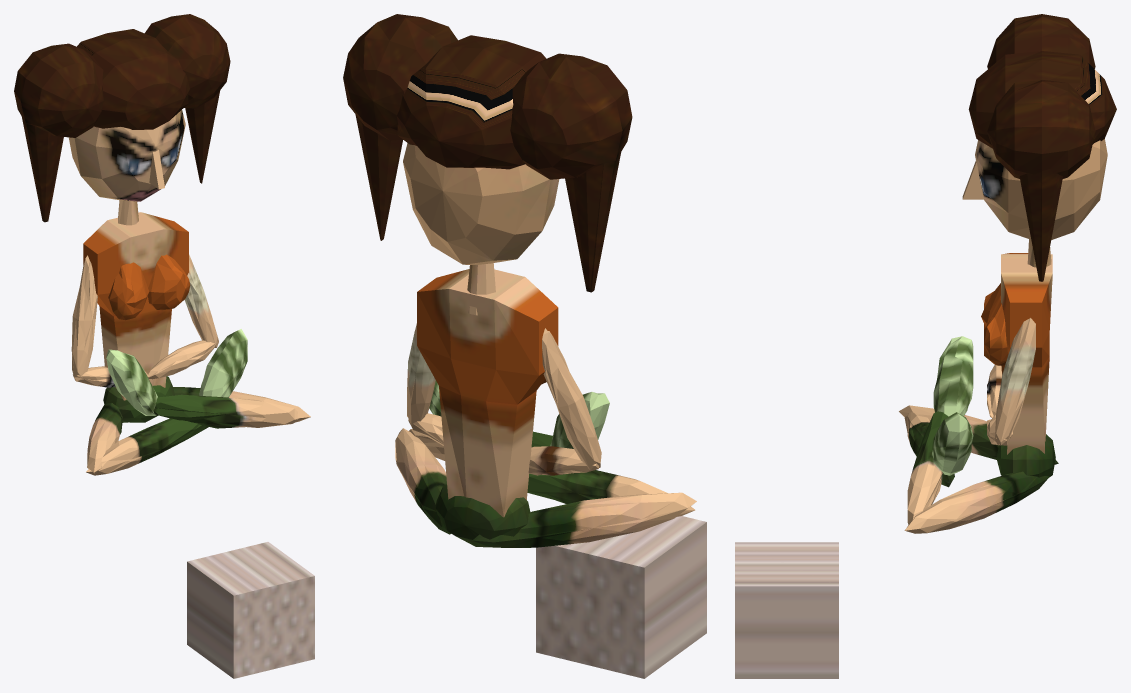
Rendered from Inst.glb.
3 views of the same model, side by side, from view 1: azimuth 30°, elevation 25°; view 2: azimuth 150°, elevation 25°; view 3: azimuth 270°, elevation 25° (orthographic). The views are drawn at different scales.
Visible parts, largest first — view 1: Inst; view 2: Inst; view 3: Inst.
Boxes of the visible parts, <box> form: Inst: <box>14,14,314,678</box>; Inst: <box>343,14,706,678</box>; Inst: <box>735,14,1116,678</box>.
Size of the model in its own units: 91.63 by 207 by 119.
Materials: 1 (1 with a texture image).
